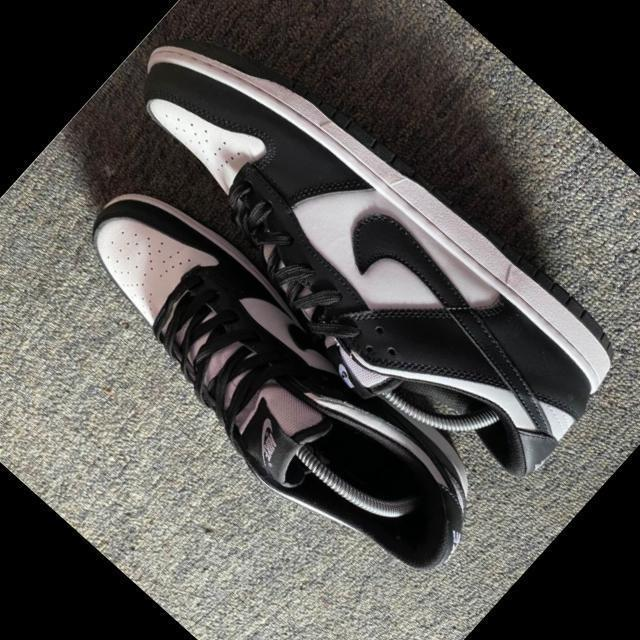nike original jordan 1: (68, 0, 640, 525), (34, 150, 518, 610)
